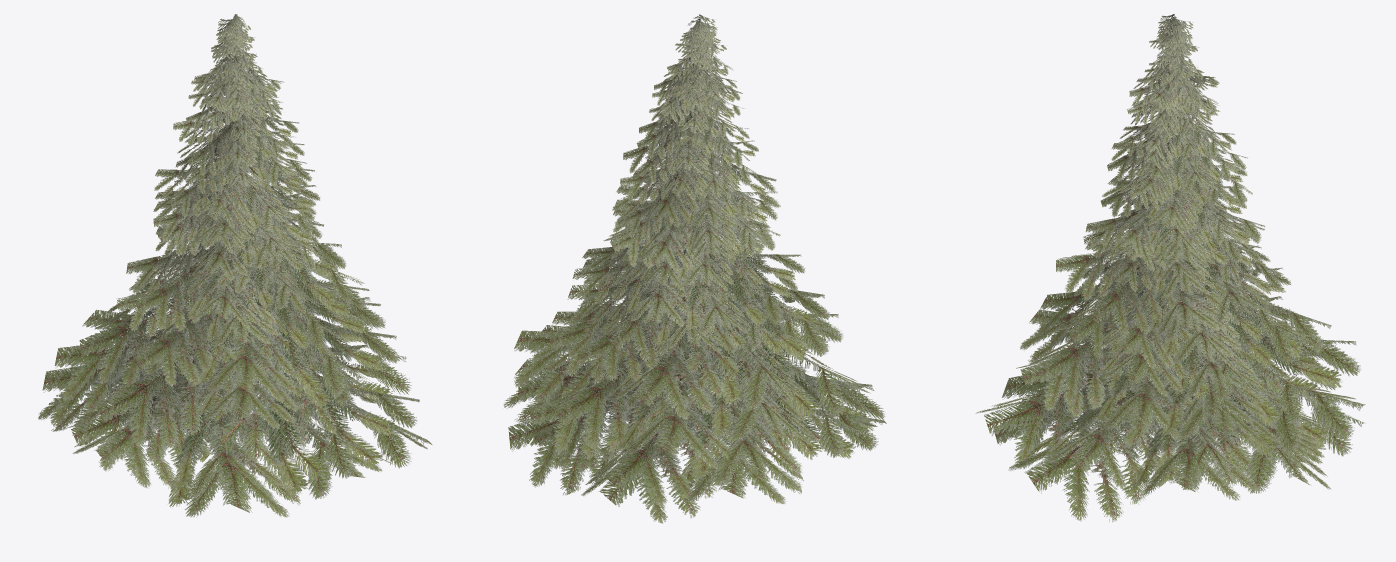
File: Hojas.fbx
3 renders of one model, left to right at view 1: azimuth 30°, elevation 25°; view 2: azimuth 150°, elevation 25°; view 3: azimuth 270°, elevation 25°, orthographic.
Visible parts, largest first — view 1: Leafes; view 2: Leafes; view 3: Leafes.
Boxes of the visible parts, x1,y1,x2,y2 form: Leafes: (38,14,432,517); Leafes: (503,14,886,523); Leafes: (975,14,1365,522).
Size of the model in its own units: 177 by 205 by 179.
